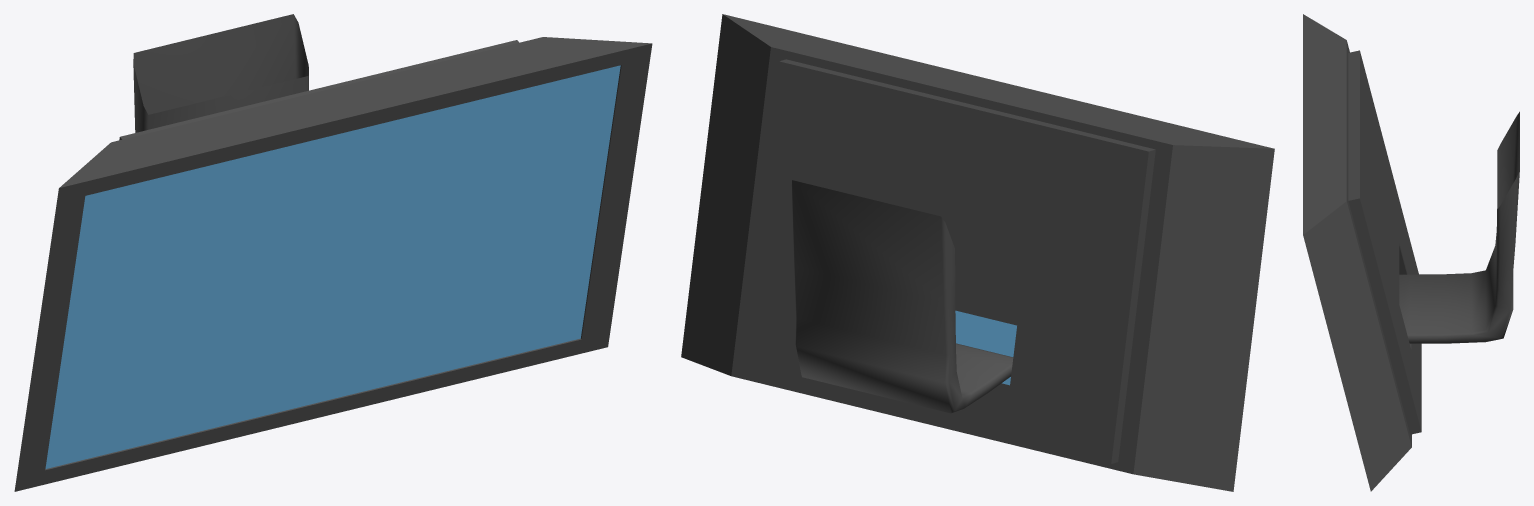
The model's file is Props_Monitor_01.fbx.
3 views of the same model, side by side, from view 1: azimuth 30°, elevation 25°; view 2: azimuth 150°, elevation 25°; view 3: azimuth 270°, elevation 25° (orthographic). The views are drawn at different scales.
Visible parts, largest first — view 1: Props_Monitor_01; view 2: Props_Monitor_01; view 3: Props_Monitor_01.
Part boxes in pixels (box(x1,y1,x2,y2)): Props_Monitor_01: box(14, 14, 652, 491); Props_Monitor_01: box(681, 14, 1274, 491); Props_Monitor_01: box(1303, 14, 1519, 491).
Size of the model in its own units: 116 by 63.7 by 48.01.
